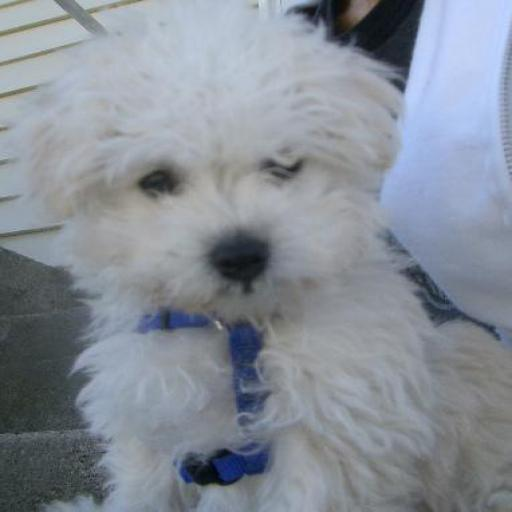dog_face: (32, 23, 408, 305)
